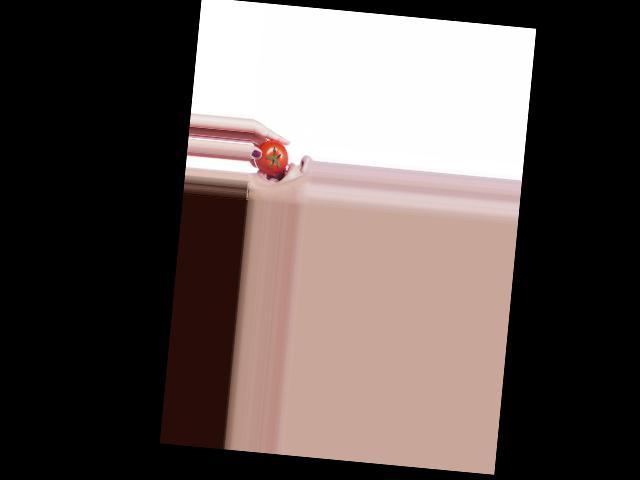tomato: (252, 137, 289, 175)
